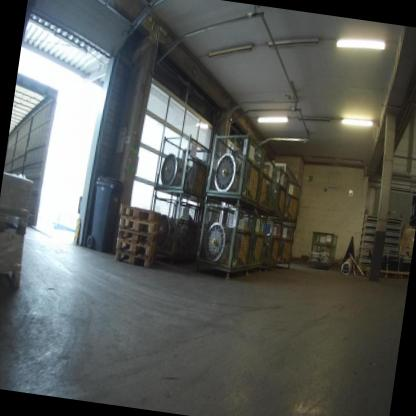pallet: (0, 207, 32, 245), (114, 233, 159, 258), (112, 246, 159, 268), (0, 263, 31, 295), (115, 226, 158, 249), (117, 213, 161, 233), (119, 201, 158, 221), (363, 265, 409, 281)
stillage: (194, 191, 261, 277), (201, 125, 266, 210), (143, 188, 202, 266), (153, 130, 211, 199), (305, 227, 342, 273), (247, 211, 270, 277), (256, 148, 278, 215), (266, 162, 290, 220), (259, 220, 284, 274), (275, 221, 299, 271), (281, 174, 303, 223)
